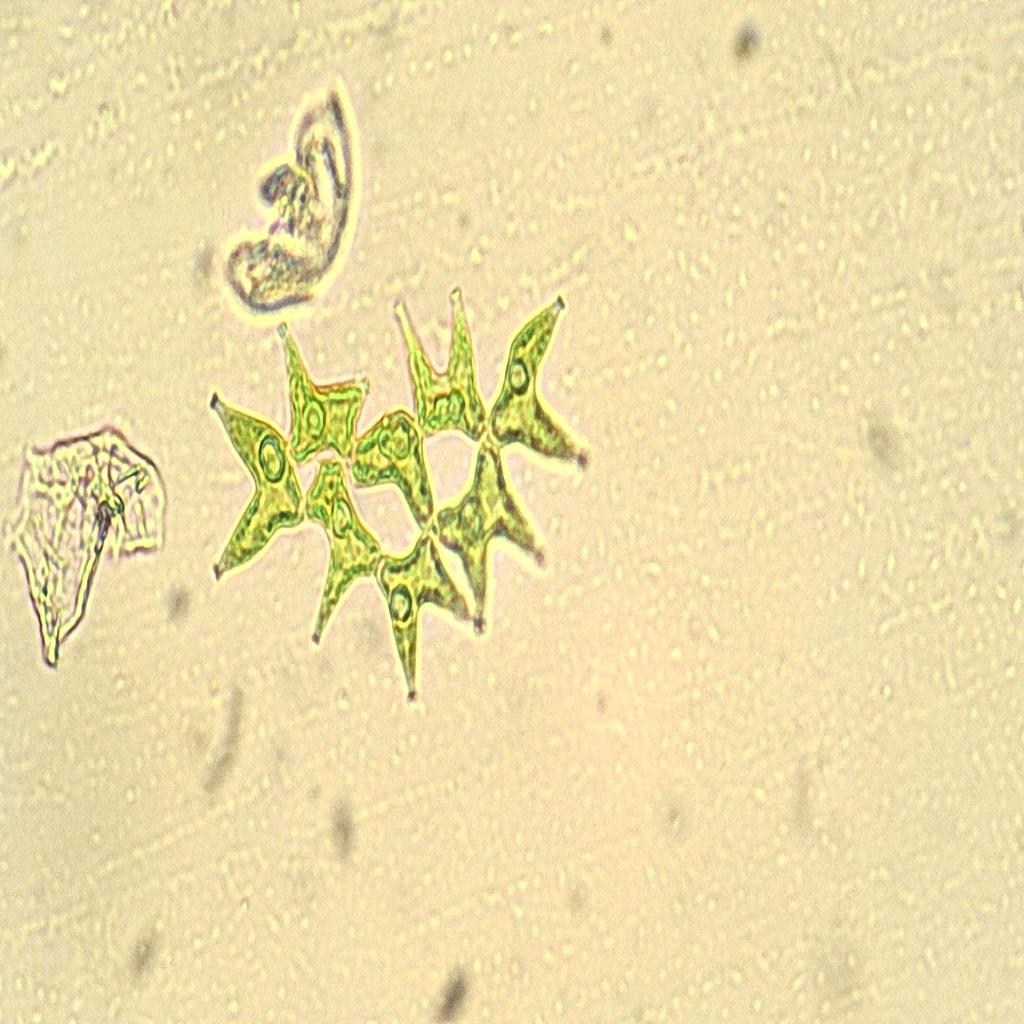Pediastrum_CFI: (189, 271, 605, 720)
